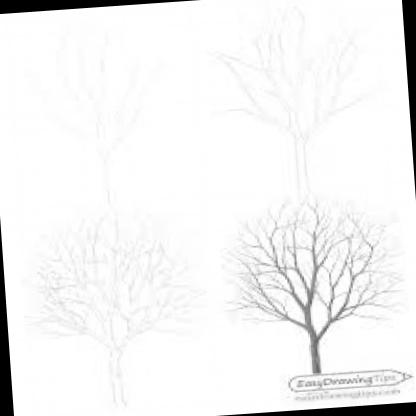branch_sharp: (229, 193, 406, 338)
trunk_straight: (308, 341, 328, 370)
